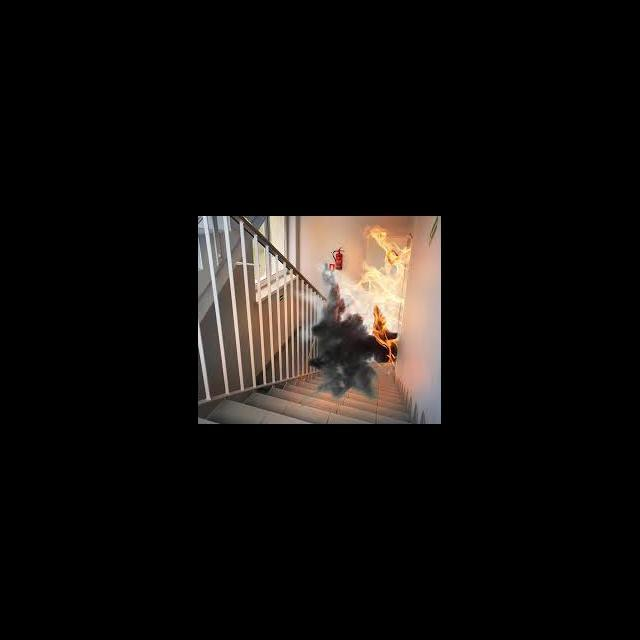Fire: (352, 224, 410, 313), (369, 304, 402, 374)
